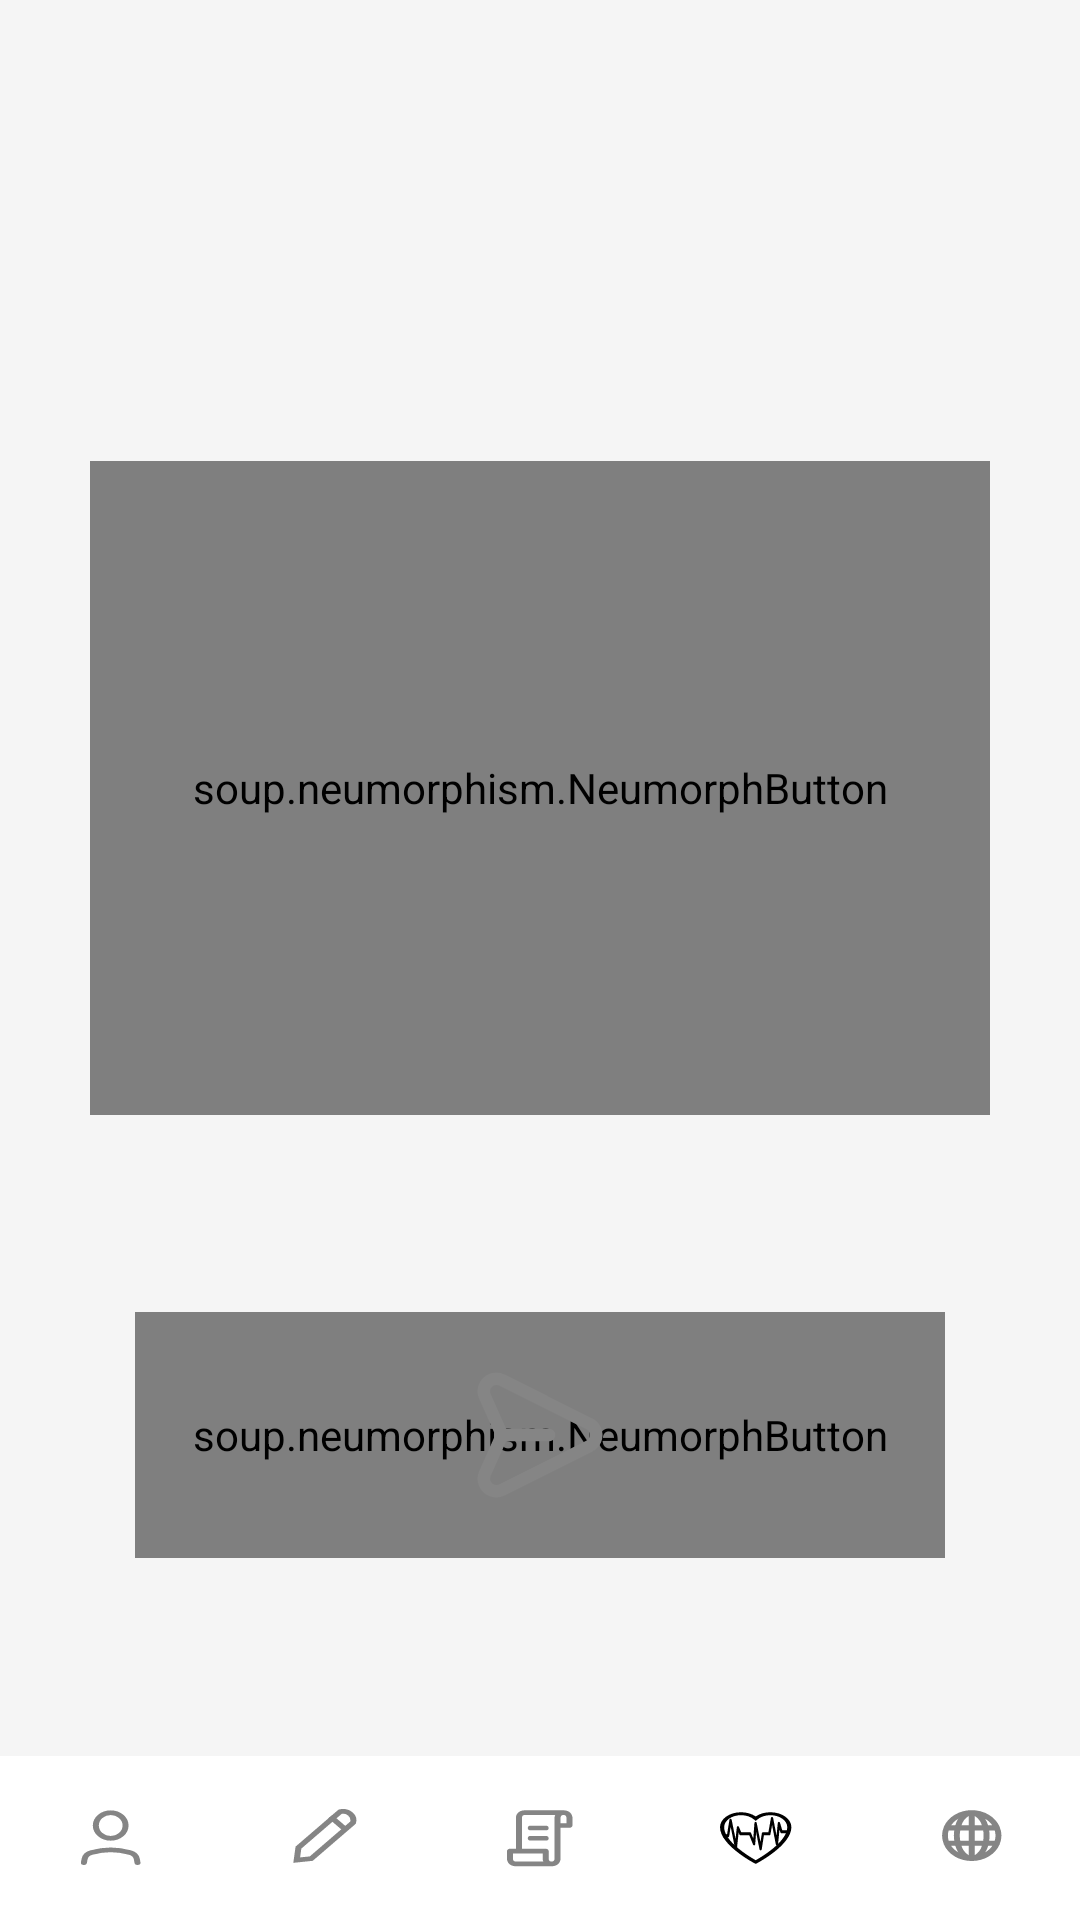

Locate icon controls on the screen. Image size 1080x1920, boxes as (x1, y1, x2, y2).
edit: (293, 1809, 357, 1863)
heart: (720, 1812, 792, 1864)
profile: (81, 1810, 141, 1865)
scroll: (507, 1810, 573, 1867)
